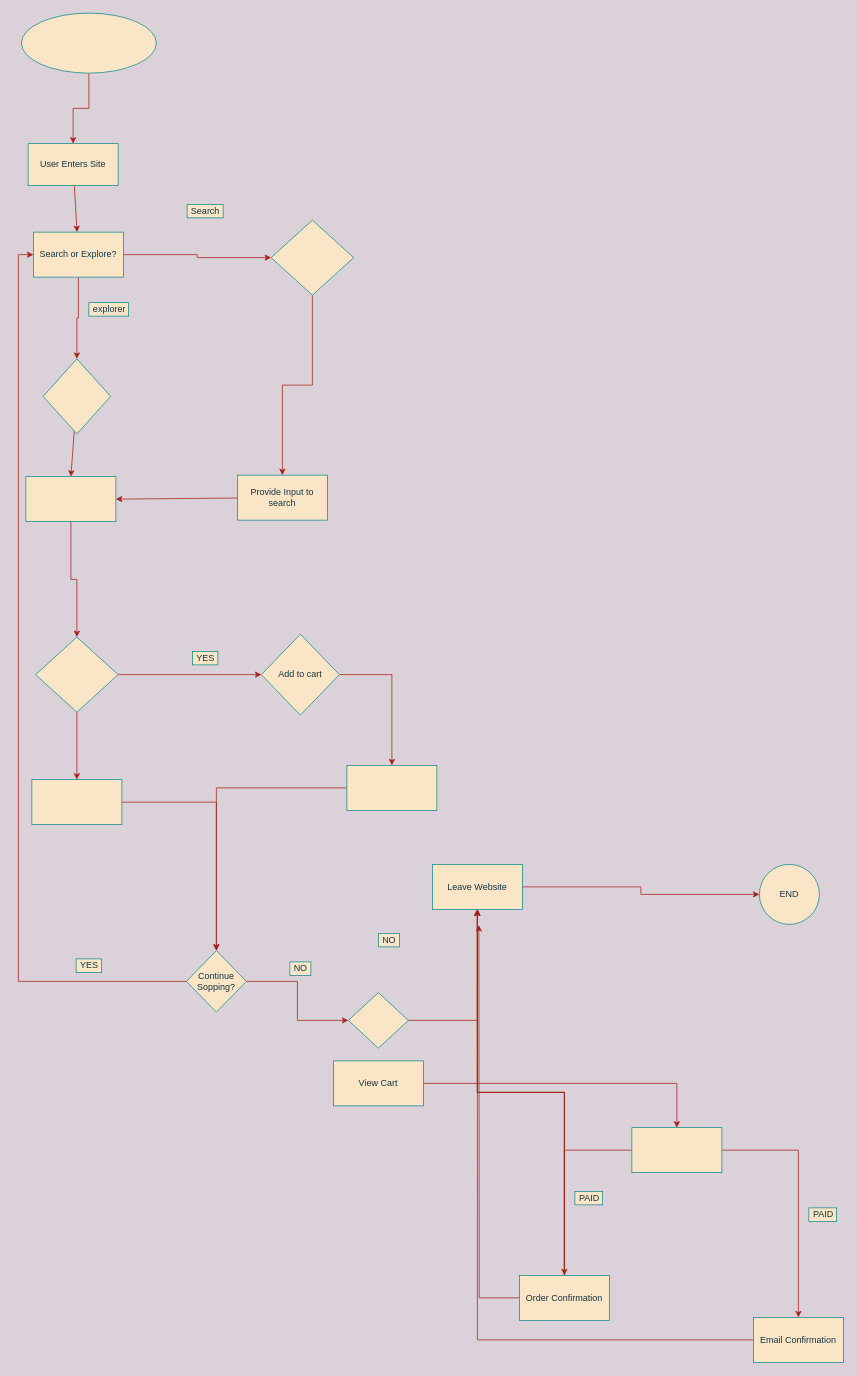
Image size: 857x1376. Some labels were removed from this diagram. Each missing label, with the centre of its shape:
"Added to cart conformiation" belongs at point 391,787.
"CHECKOUT?" belongs at point 378,1020.
"Exploring Products" belongs at point 76,396.
"Looking Over Products" belongs at point 70,499.
"Prdouct Webpage" belongs at point 76,802.
"Searching for Prodcuts" belongs at point 312,257.
"Start" belongs at point 88,42.
"View Payment" belongs at point 676,1150.
"Viewing Specific Product" belongs at point 76,674.
